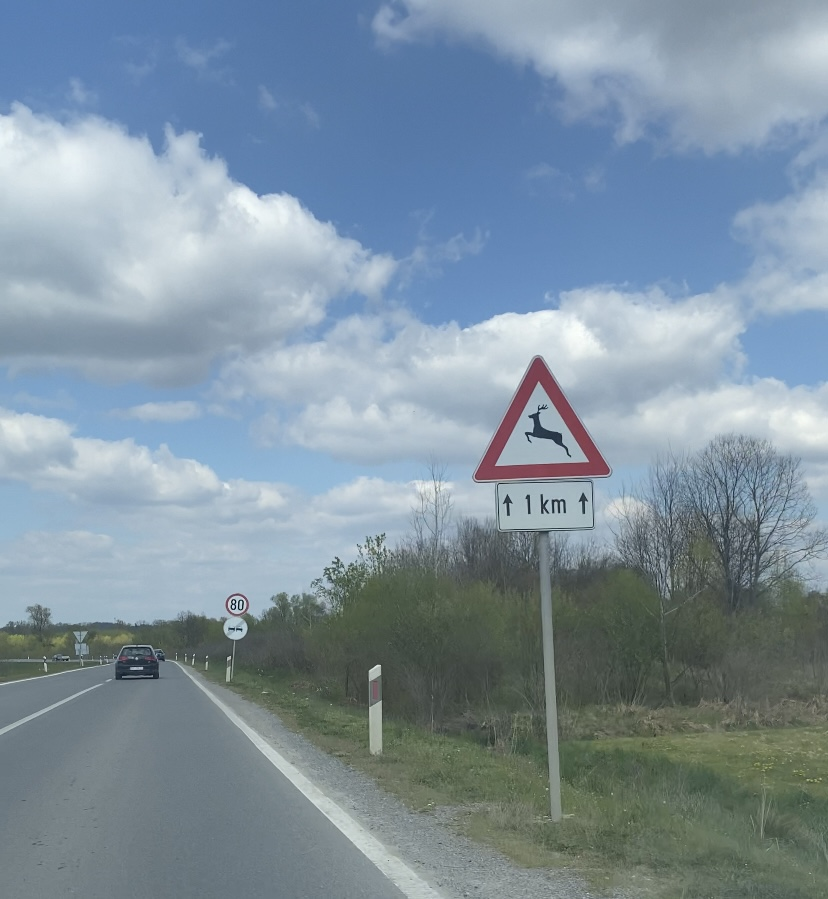Divljač na cesti: (472, 355, 612, 482)
